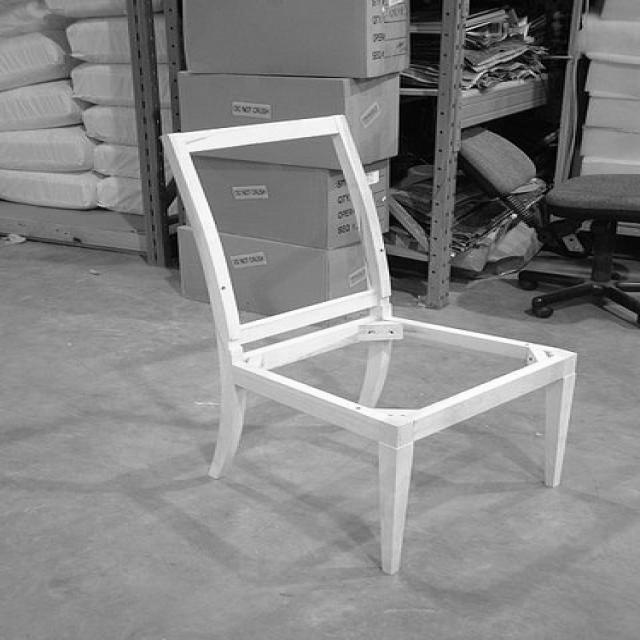chair: (156, 111, 582, 574)
